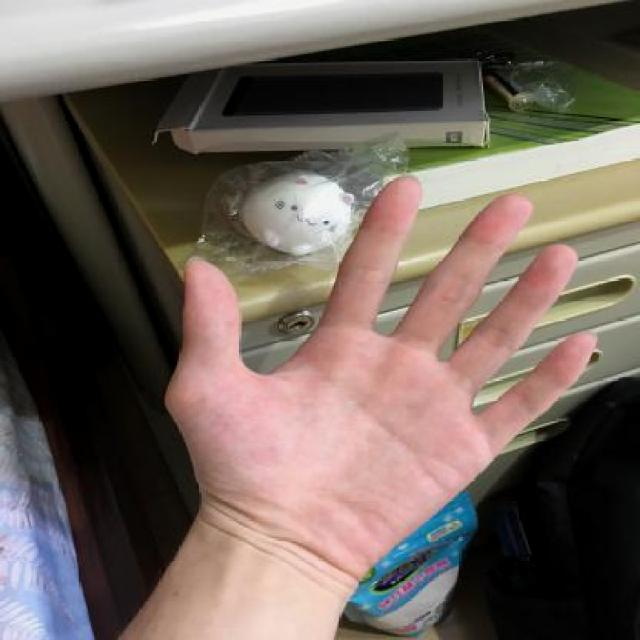no_glove: (135, 172, 618, 596)
